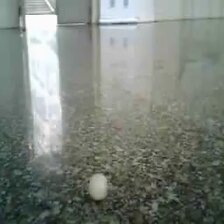w: (88, 172, 110, 202)
